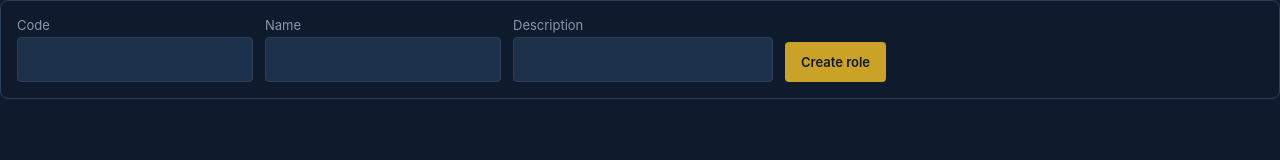
Test case: CreateRoleForm — submit › shows the action-returned error message on failure
In the field labelled "Code": (135, 60) [17,37,253,82], type "AUDITOR"
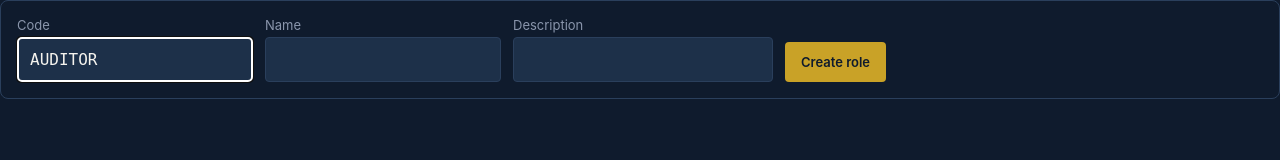
In the field labelled "Name": (383, 60) [265,37,501,82], type "Auditor"
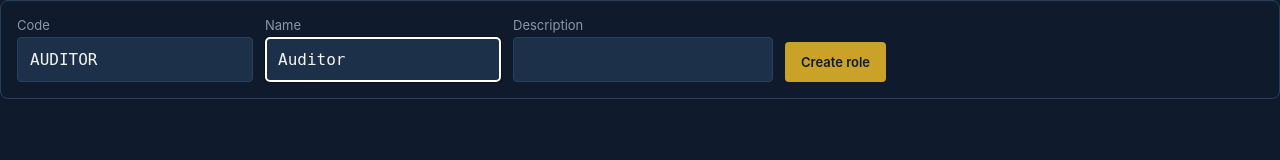
Click the button "Create role": (836, 62) [785,42,886,82]
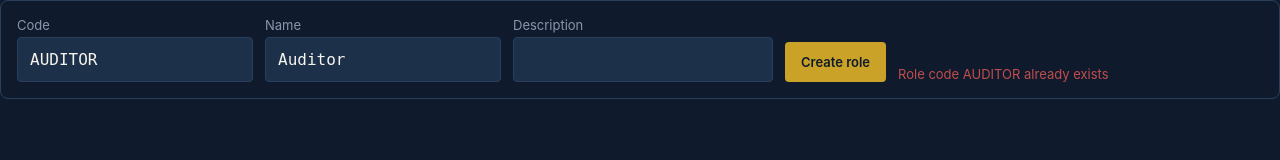
Expected: the text "Role code AUDITOR already exists" is shown, [898,66,1108,82]
